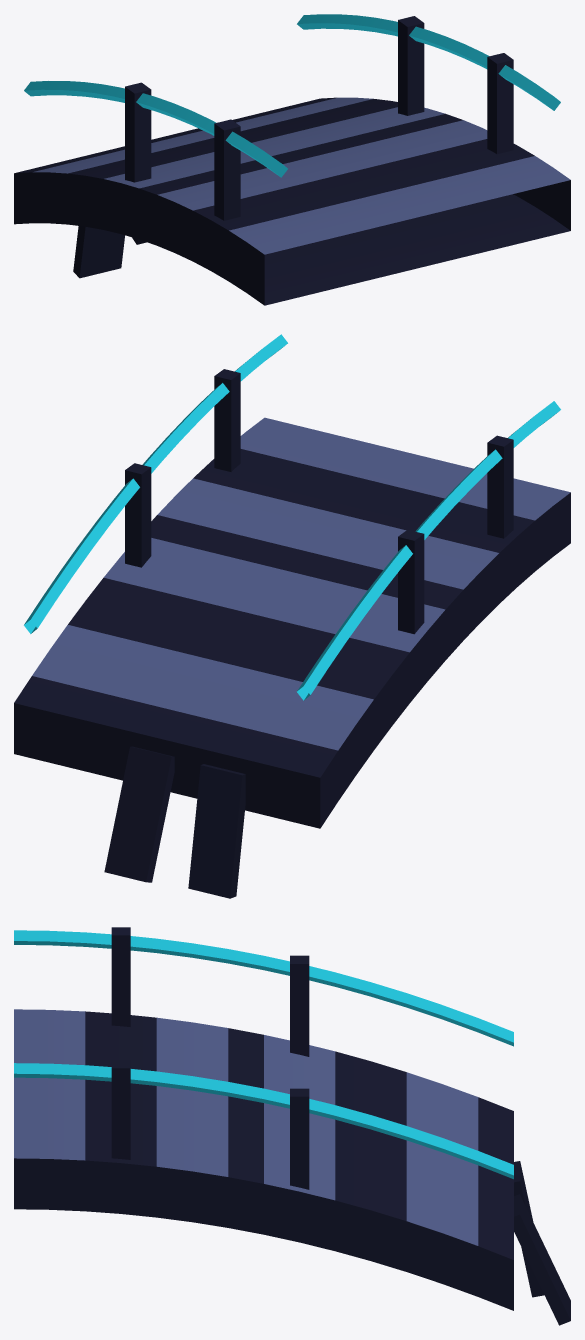
Rendered from MODULE_ALIEN_BRIDGE_BROKEN_2.fbx.
3 renders of one model, top to bottom at view 1: azimuth 30°, elevation 25°; view 2: azimuth 150°, elevation 25°; view 3: azimuth 270°, elevation 25°, orthographic.
Parts seen in each view (by area): view 1: MODULE_ALIEN_BRIDGE_BROKEN_2__export, MODULE_ALIEN_BRIDGE_BROKEN_2_DECOR__export; view 2: MODULE_ALIEN_BRIDGE_BROKEN_2__export, MODULE_ALIEN_BRIDGE_BROKEN_2_DECOR__export; view 3: MODULE_ALIEN_BRIDGE_BROKEN_2__export, MODULE_ALIEN_BRIDGE_BROKEN_2_DECOR__export.
Part boxes in pixels (x1,y1,x2,y2): MODULE_ALIEN_BRIDGE_BROKEN_2__export: (14, 97, 570, 305); MODULE_ALIEN_BRIDGE_BROKEN_2_DECOR__export: (24, 14, 560, 278); MODULE_ALIEN_BRIDGE_BROKEN_2__export: (14, 417, 570, 828); MODULE_ALIEN_BRIDGE_BROKEN_2_DECOR__export: (24, 334, 560, 898); MODULE_ALIEN_BRIDGE_BROKEN_2__export: (14, 1009, 513, 1310); MODULE_ALIEN_BRIDGE_BROKEN_2_DECOR__export: (14, 927, 570, 1325).
Size of the model in its own units: 22 by 21.93 by 34.74.
